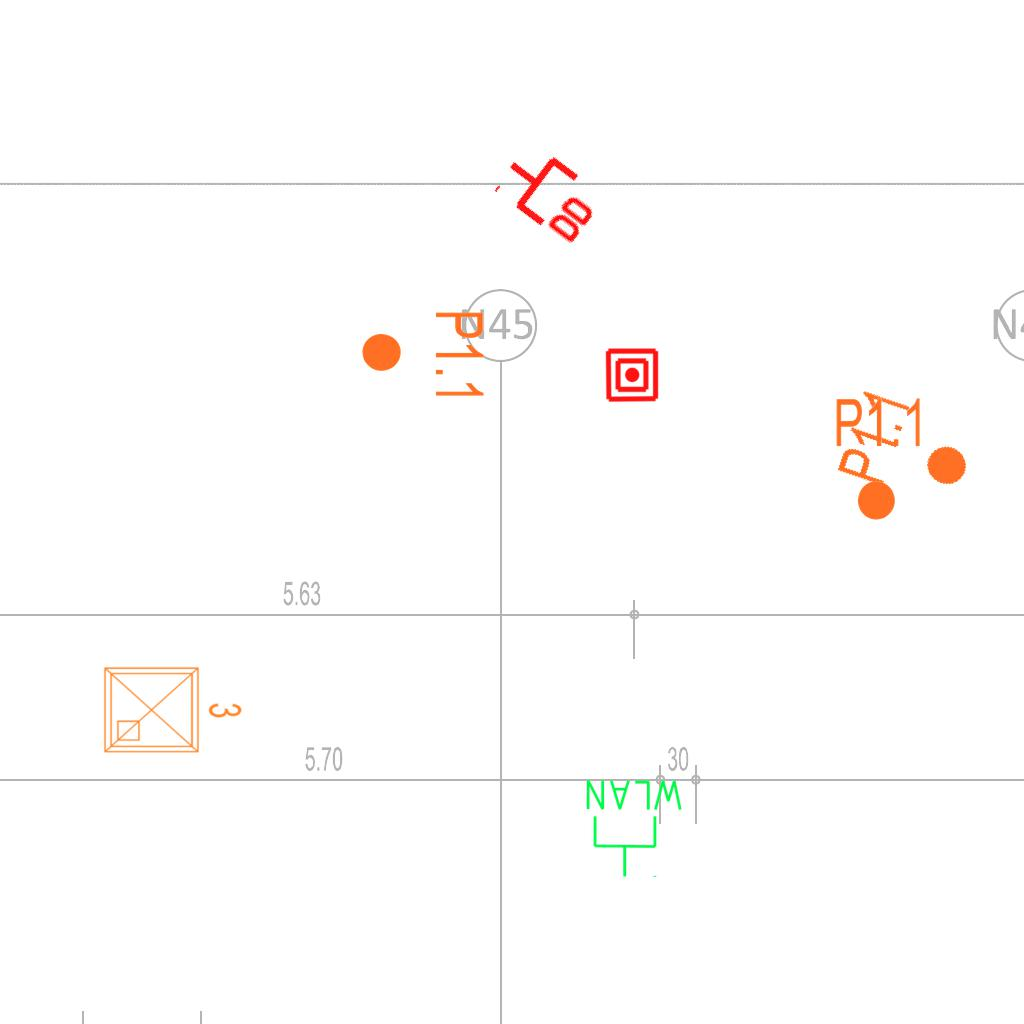Datenanschluss_zweifach: (489, 133, 614, 252)
Downlight_LED_Einbauleuchten_Flur: (832, 384, 985, 514), (359, 309, 487, 402), (833, 395, 926, 523)
Einbaudownlights_LED_Konferenzraeume: (97, 656, 247, 760)
NAM-Nichtautomatischer_Melder: (603, 346, 661, 404)
WLAN: (582, 776, 687, 880)
